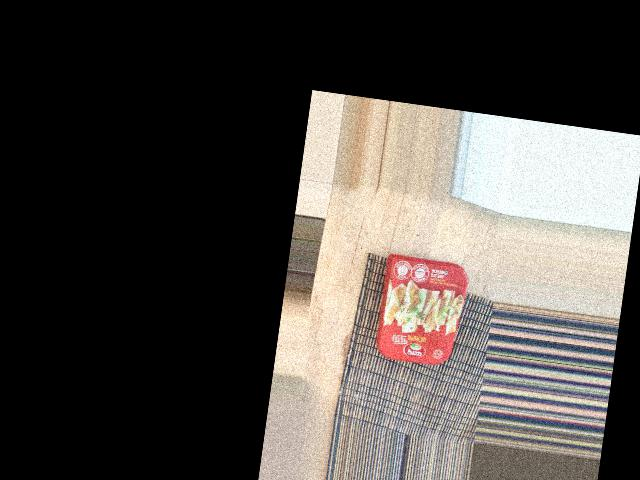cheese: (376, 236, 466, 361)
